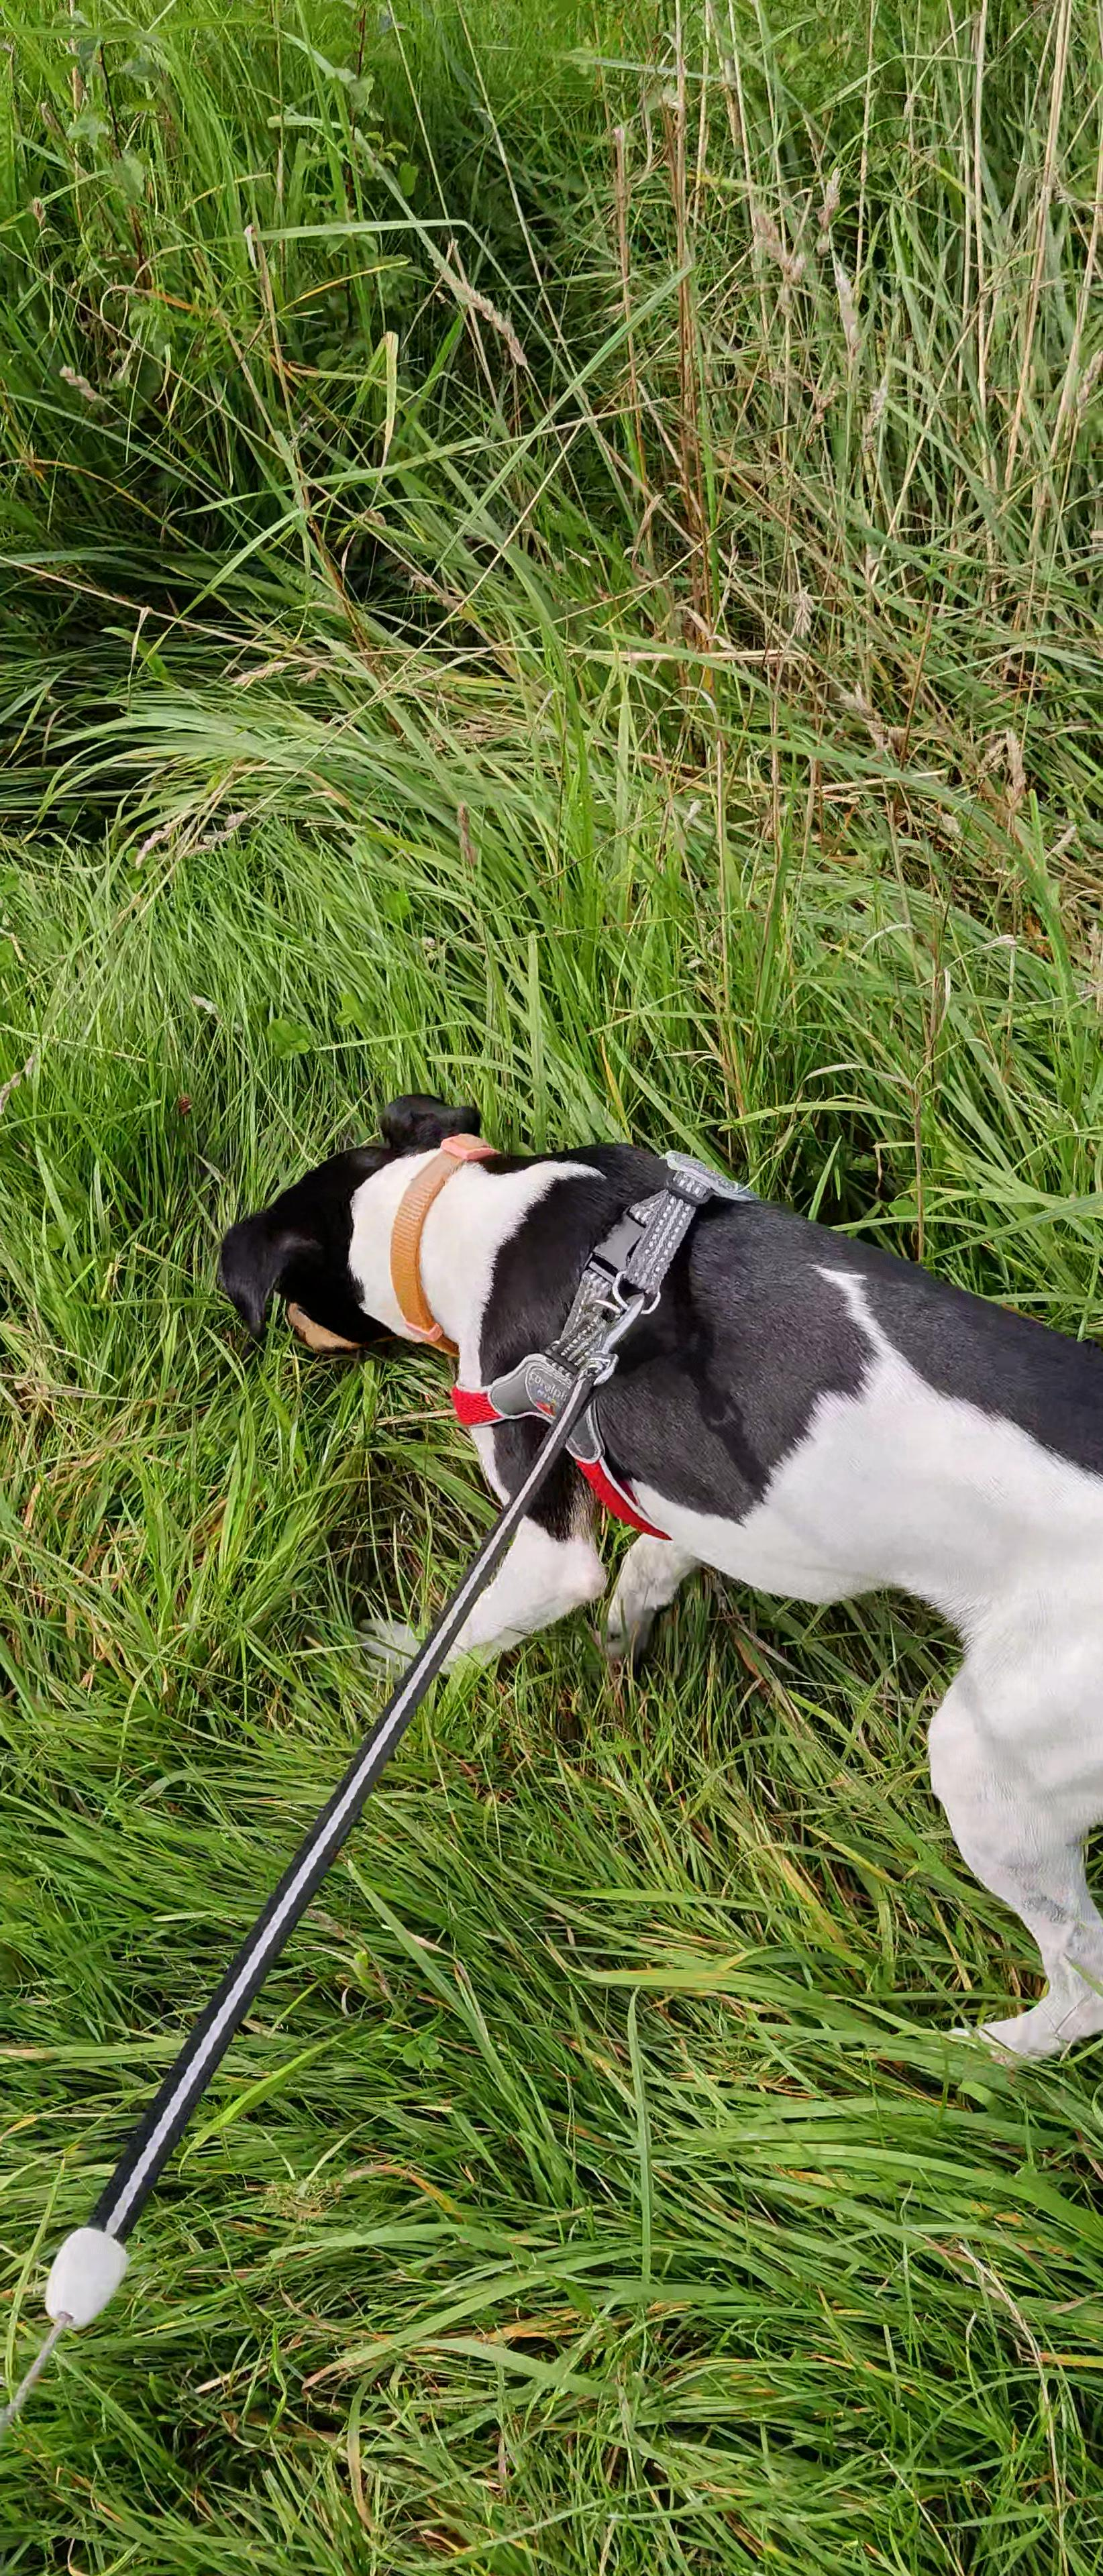Dog: (209, 1088, 1103, 2086)
